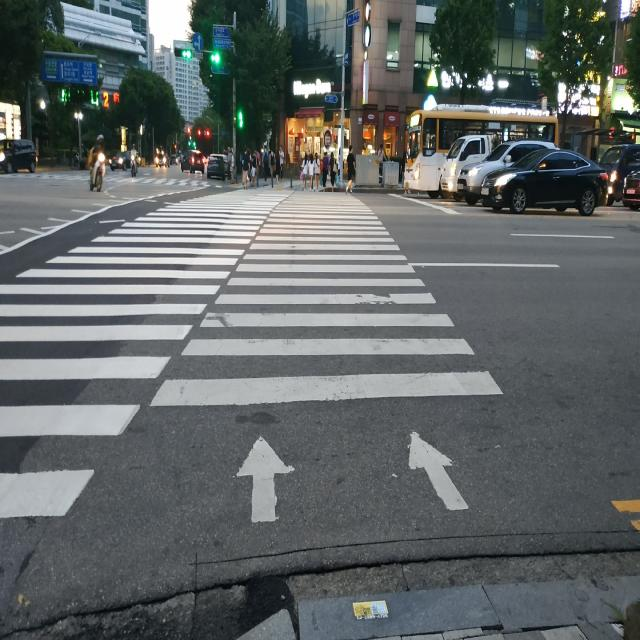횡단보도: (0, 186, 504, 524)
